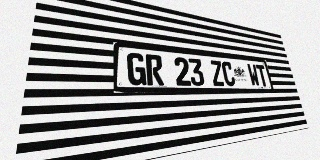2: (174, 57, 191, 86)
3: (188, 58, 205, 86)
C: (221, 61, 236, 86)
G: (127, 52, 147, 85)
R: (145, 54, 164, 85)
T: (255, 64, 269, 86)
W: (247, 64, 260, 86)
Z: (209, 60, 225, 86)
